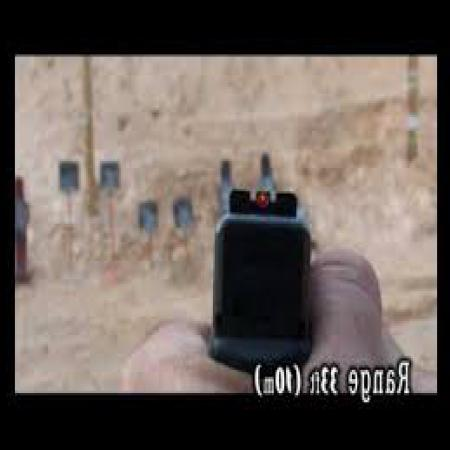Pistol: (207, 176, 321, 376)
